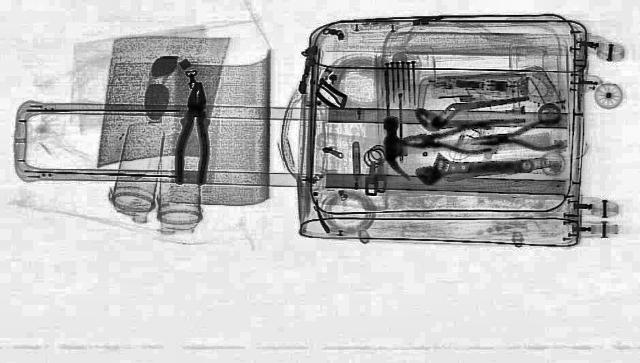Pliers: (172, 82, 214, 184), (464, 117, 568, 156), (397, 122, 493, 156)
Wrench: (410, 149, 536, 185)
